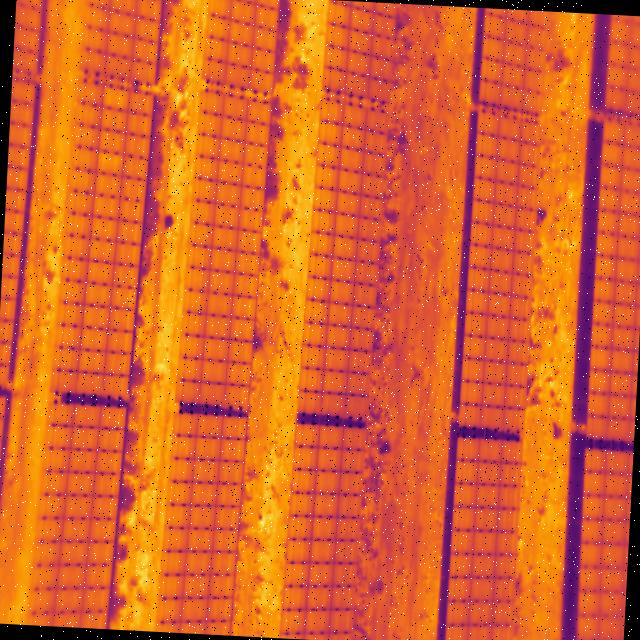Hotspot: (104, 85, 128, 107)
